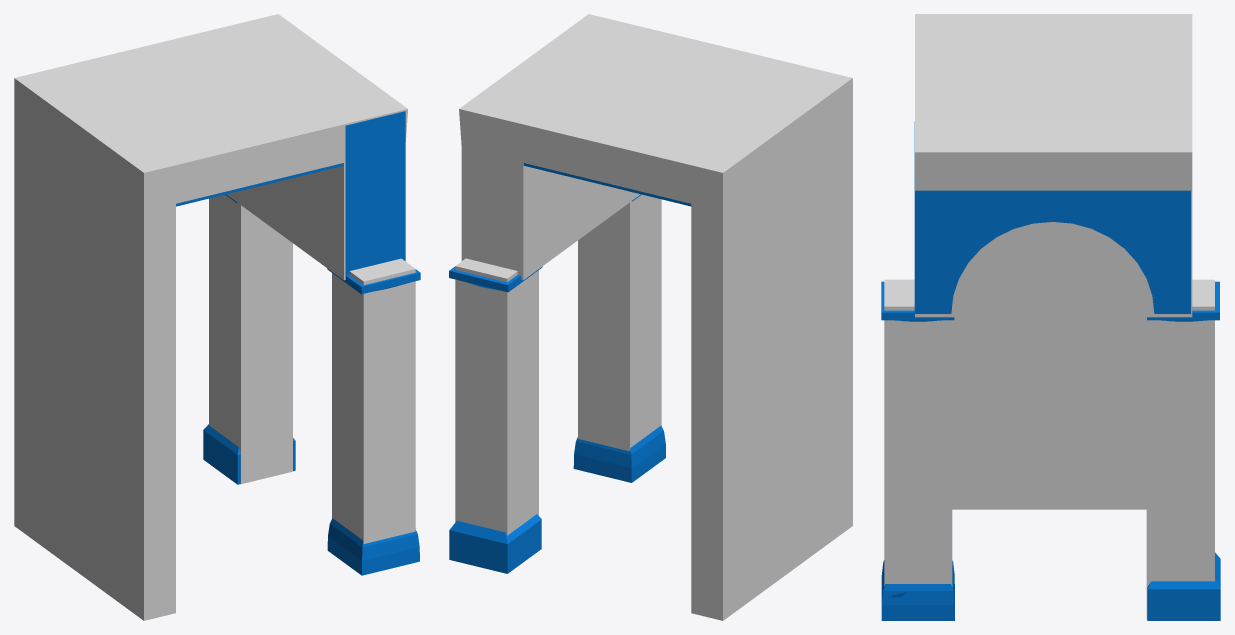
File: Wall.gltf
3 renders of one model, left to right at view 1: azimuth 30°, elevation 25°; view 2: azimuth 150°, elevation 25°; view 3: azimuth 270°, elevation 25°, orthographic. The views are drawn at different scales.
Parts seen in each view (by area): view 1: COL.001, COL, COL.002, 円, Pedestal, Pedestal.001, Top, 立方体.001; view 2: COL.001, COL.002, COL, Pedestal.001, Pedestal, Top.001, 立方体.001; view 3: COL.001, 円, COL, COL.002, Pedestal.001, Pedestal, Top, Top.001.
Part boxes in pixels (<box>): COL.001: <box>14,14,407,620</box>; COL: <box>332,258,415,543</box>; COL.002: <box>209,195,292,484</box>; 円: <box>345,111,405,276</box>; Pedestal: <box>327,518,419,575</box>; Pedestal.001: <box>203,424,295,484</box>; Top: <box>327,268,420,294</box>; 立方体.001: <box>176,163,343,206</box>; COL.001: <box>459,14,852,620</box>; COL.002: <box>455,258,538,535</box>; COL: <box>578,194,661,451</box>; Pedestal.001: <box>449,514,541,573</box>; Pedestal: <box>573,425,665,482</box>; Top.001: <box>449,266,542,292</box>; 立方体.001: <box>523,163,691,206</box>; COL.001: <box>915,14,1192,509</box>; 円: <box>914,121,1190,313</box>; COL: <box>884,279,952,586</box>; COL.002: <box>1146,279,1214,619</box>; Pedestal.001: <box>1147,552,1220,620</box>; Pedestal: <box>881,560,954,620</box>; Top: <box>881,281,954,321</box>; Top.001: <box>1147,281,1219,321</box>.
Bounding box in the file's own units: 18.43 × 29.87 × 19.18.
